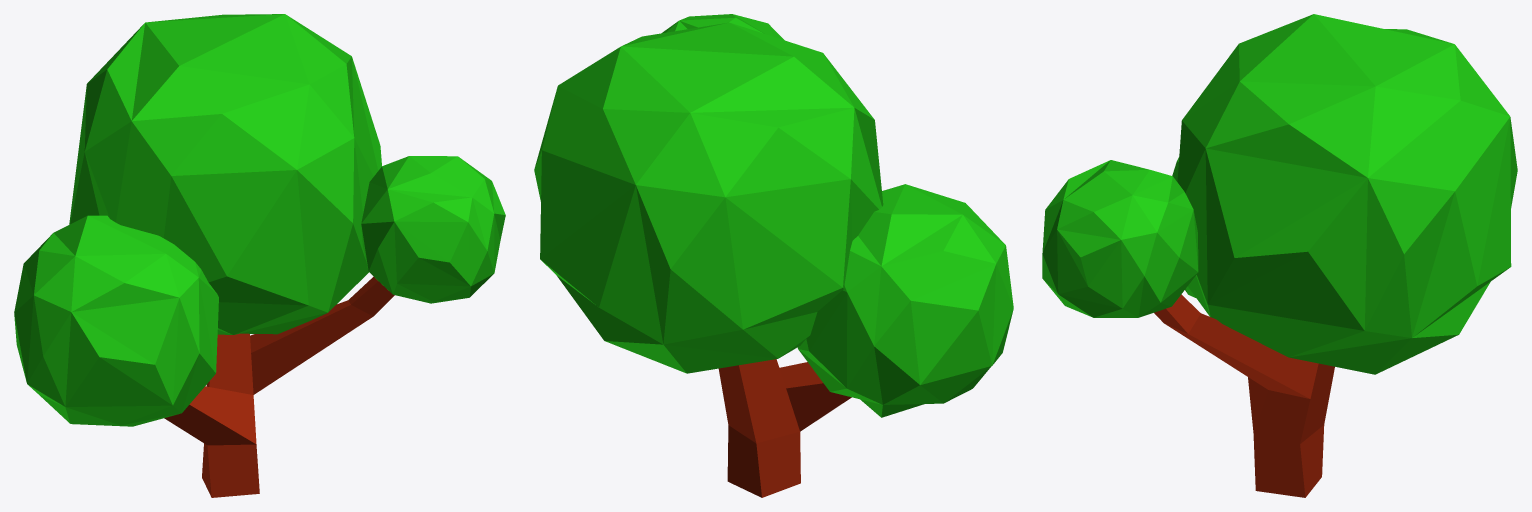
Rendered from Arbol3.FBX.
3 views of the same model, side by side, from view 1: azimuth 30°, elevation 25°; view 2: azimuth 150°, elevation 25°; view 3: azimuth 270°, elevation 25° (orthographic). The views are drawn at different scales.
Visible parts, largest first — view 1: tree_1; view 2: tree_1; view 3: tree_1.
Boxes of the visible parts, x1,y1,x2,y2 form: tree_1: [14, 14, 505, 497]; tree_1: [534, 14, 1013, 497]; tree_1: [1042, 14, 1517, 497].
Size of the model in its own units: 1909 by 1938 by 1860.
